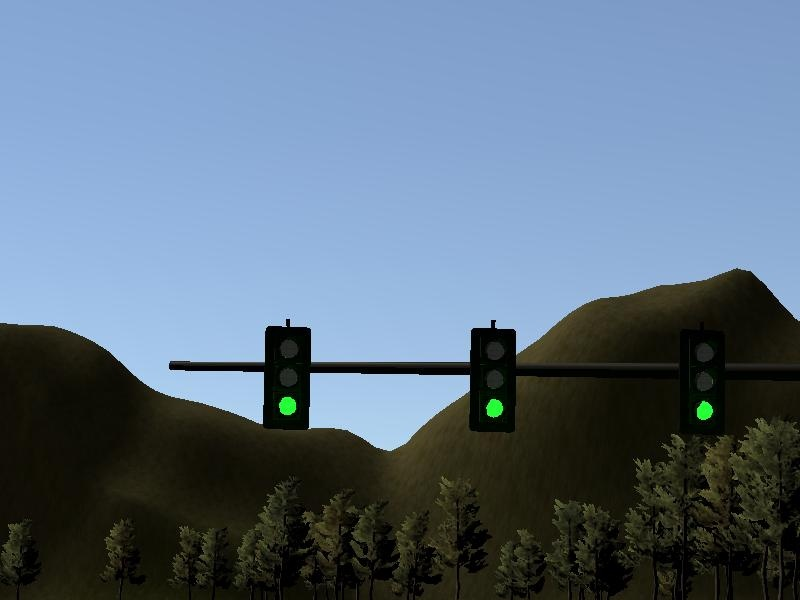GREEN: (262, 324, 309, 430), (469, 326, 516, 431), (681, 331, 726, 433)
